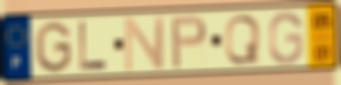G: (32, 20, 74, 75), (267, 10, 305, 66)
L: (77, 20, 110, 72)
N: (122, 14, 168, 74)
P: (169, 14, 210, 71)
Q: (223, 13, 263, 66)
